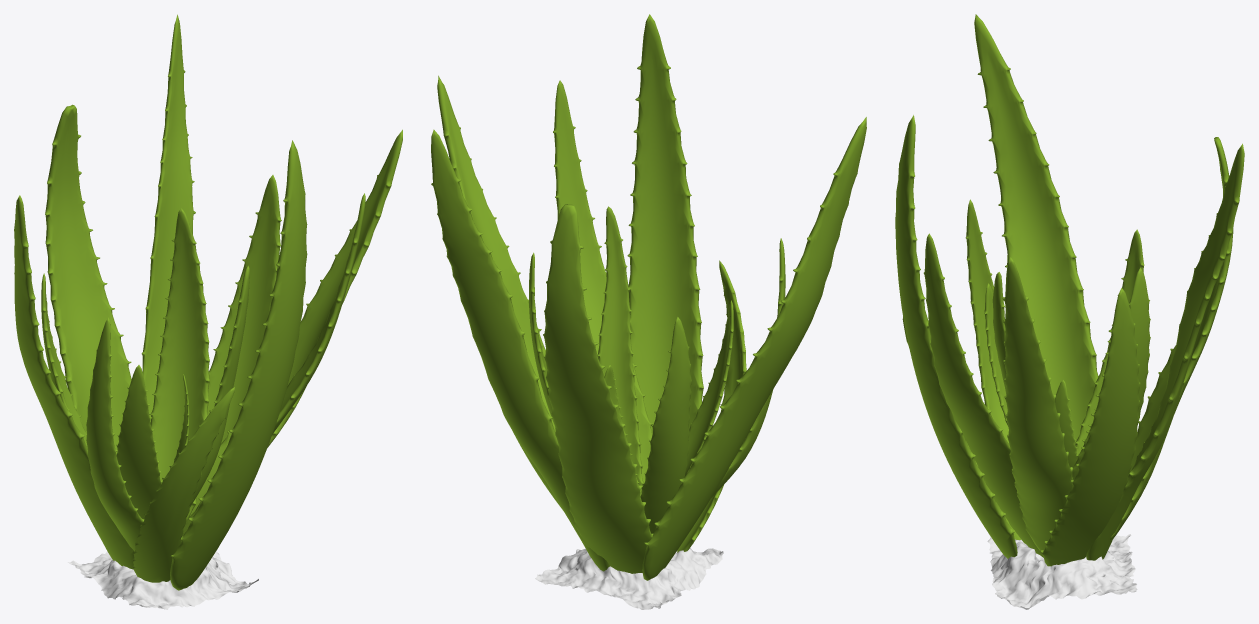
File: Aloe vera.fbx
The picture shows the model from 3 angles, left to right: view 1: azimuth 30°, elevation 25°; view 2: azimuth 150°, elevation 25°; view 3: azimuth 270°, elevation 25°; orthographic projection. The views are drawn at different scales.
Parts seen in each view (by area): view 1: Arch41_014, Arch41_047, Arch41_012, Arch41_048, Arch41_015, Arch41_049, Arch41_045, Arch41_043, Arch41_044, Arch41_040, Arch41_013, Arch41_042 (+2 smaller); view 2: Arch41_047, Arch41_014, Arch41_015, Arch41_048, Arch41_042, Arch41_011, Arch41_040, Arch41_010, Arch41_043, Arch41_013, Arch41_045, Arch41_044 (+1 smaller); view 3: Arch41_015, Arch41_043, Arch41_049, Arch41_014, Arch41_042, Arch41_048, Arch41_040, Arch41_047, Arch41_044, Arch41_012, Arch41_011, Arch41_013 (+2 smaller).
Boxes of the visible parts, box(x1,y1,x2,y2) form: Arch41_014: box(170, 140, 307, 590); Arch41_047: box(45, 104, 131, 453); Arch41_012: box(149, 208, 209, 520); Arch41_048: box(141, 14, 195, 421); Arch41_015: box(14, 195, 134, 569); Arch41_049: box(207, 175, 281, 443); Arch41_045: box(132, 387, 234, 582); Arch41_043: box(189, 129, 402, 516); Arch41_044: box(86, 317, 144, 550); Arch41_040: box(68, 551, 258, 609); Arch41_013: box(116, 365, 162, 519); Arch41_042: box(182, 193, 365, 535); Arch41_047: box(543, 204, 653, 573); Arch41_014: box(627, 14, 703, 434); Arch41_015: box(642, 117, 866, 580); Arch41_048: box(431, 129, 609, 571); Arch41_042: box(553, 80, 652, 482); Arch41_011: box(640, 317, 691, 533); Arch41_040: box(535, 548, 723, 609); Arch41_010: box(597, 206, 644, 493); Arch41_043: box(437, 75, 555, 432); Arch41_013: box(685, 300, 733, 475); Arch41_045: box(677, 260, 746, 552); Arch41_044: box(711, 238, 785, 497); Arch41_015: box(974, 14, 1098, 443); Arch41_043: box(1002, 257, 1073, 550); Arch41_049: box(1040, 288, 1140, 566); Arch41_014: box(895, 115, 1017, 558); Arch41_042: box(923, 233, 1043, 557); Arch41_048: box(1086, 143, 1244, 560); Arch41_040: box(987, 534, 1137, 609); Arch41_047: box(1110, 137, 1233, 539); Arch41_044: box(965, 199, 1008, 442); Arch41_012: box(1072, 267, 1150, 479); Arch41_011: box(1075, 229, 1144, 454); Arch41_013: box(984, 283, 1008, 426).
Bounding box in the file's own units: 1623 × 1896 × 1211.
